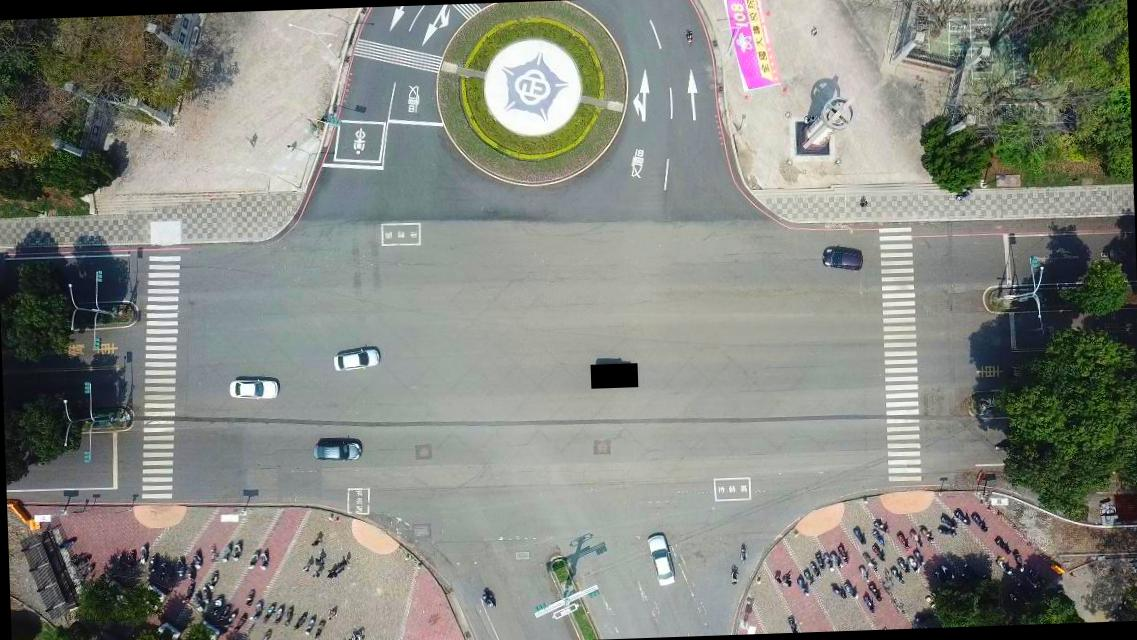vehicle: (645, 530, 674, 588), (309, 436, 363, 465), (226, 374, 280, 402), (328, 343, 380, 372), (820, 243, 862, 271)
